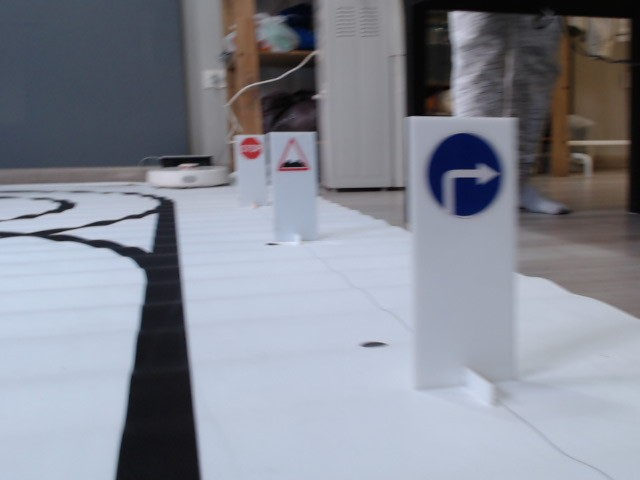Nerov: (278, 140, 312, 173)
Right: (425, 131, 503, 222)
Stop: (239, 138, 262, 159)
